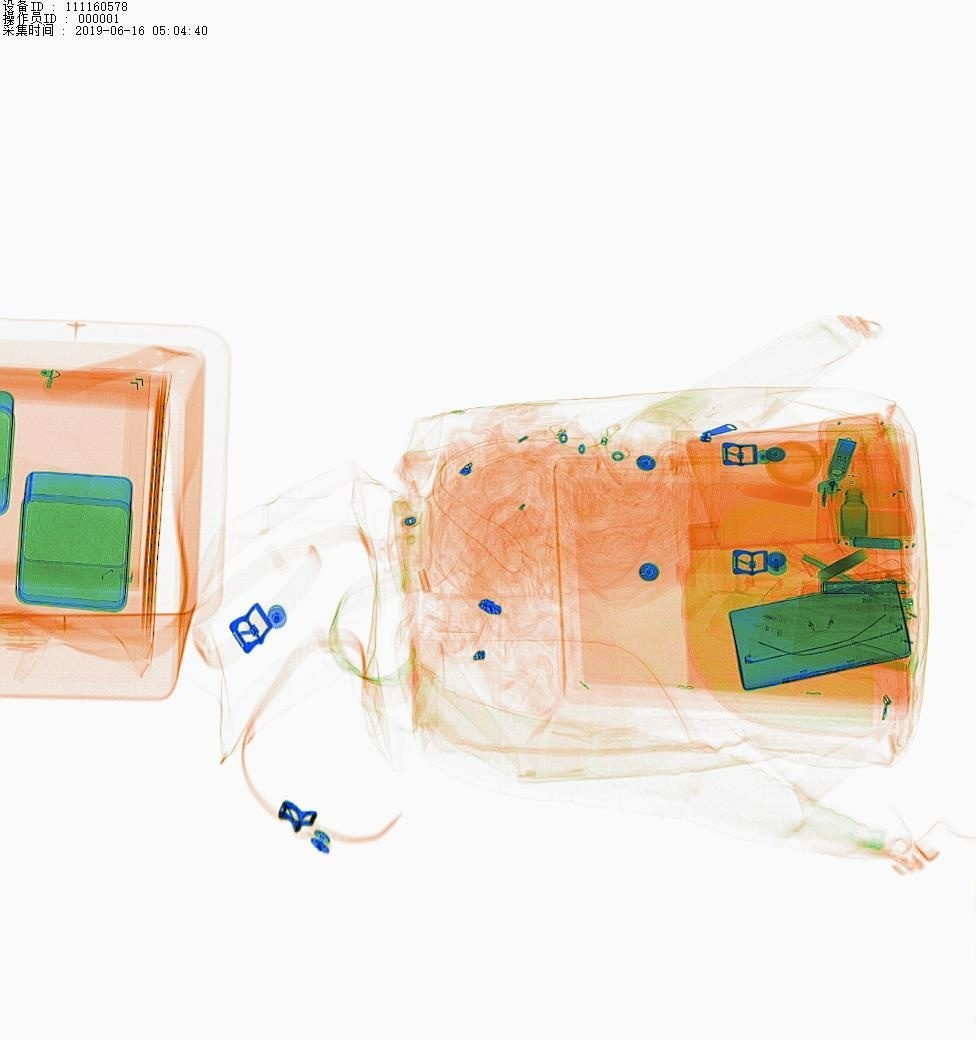NonmetallicFire: (798, 466, 850, 564)
